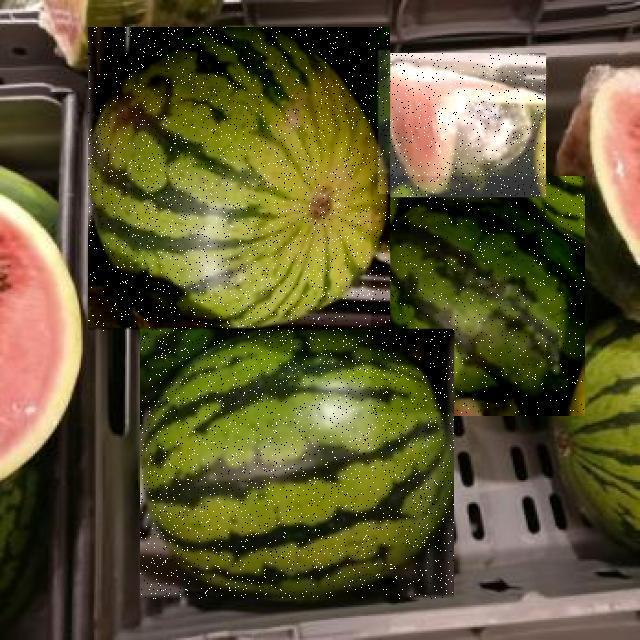Watermelon: (88, 28, 390, 332), (140, 330, 454, 600), (371, 176, 585, 416), (379, 53, 547, 197)
